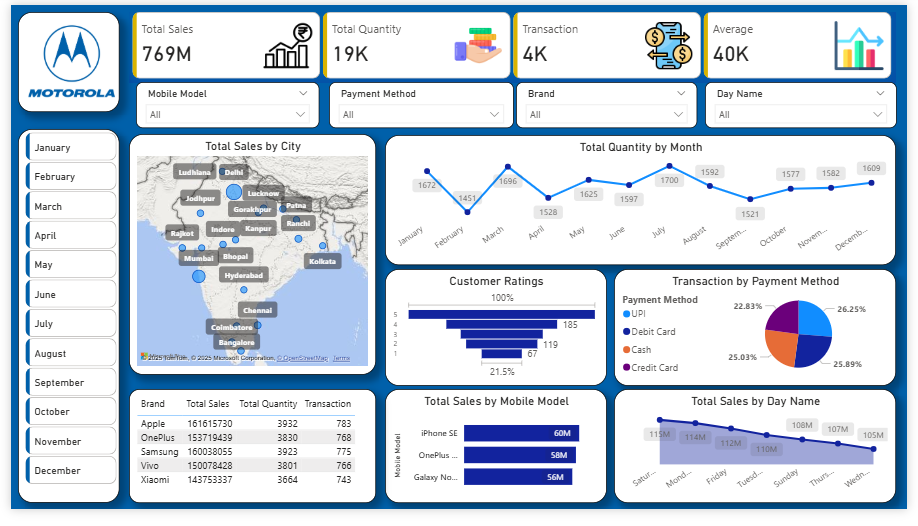

The page's visual inventory and layout, read from the dashboard file:
{"tool":"powerbi","page":{"name":"Page 1","canvas":[1280,720],"ordinal":0},"visuals":[{"type":"shape","box":[10,10,145,143.3],"z":0},{"type":"image","box":[16.7,23.3,138.3,115],"z":1000},{"type":"shape","box":[10.1,177.1,145.4,534.2],"z":2000},{"type":"advancedSlicerVisual","fields":{"Values":["SALE-DATA.Date.Variation.Date Hierarchy.Month"]},"box":[15,176.7,140,518.3],"z":3000},{"type":"cardVisual","fields":{"Data":["SALE-DATA.Total Sales","SALE-DATA.Total Quantity","SALE-DATA.Transaction","SALE-DATA.Average"]},"box":[168.5,10.1,1095.8,100.8],"z":4000},{"type":"map","fields":{"Category":["SALE-DATA.City"],"Size":["SALE-DATA.Total Sales"]},"box":[168.5,184.3,352.8,344.2],"z":5000},{"type":"lineChart","fields":{"Category":["SALE-DATA.Date.Variation.Date Hierarchy.Month","SALE-DATA.Date.Variation.Date Hierarchy.Day"],"Y":["SALE-DATA.Total Quantity"]},"box":[534.2,185.8,730.1,185.8],"z":6000},{"type":"clusteredBarChart","fields":{"Category":["SALE-DATA.Mobile Model"],"Y":["SALE-DATA.Total Sales"]},"box":[534.2,548.6,316.8,162.7],"z":7000},{"type":"pieChart","fields":{"Category":["SALE-DATA.Payment Method"],"Y":["SALE-DATA.Transaction"]},"box":[861.1,377.3,403.2,167],"z":8000},{"type":"funnel","title":"Customer Ratings","fields":{"Category":["SALE-DATA.Customer Ratings"],"Y":["CountNonNull(SALE-DATA.Customer Ratings)"]},"box":[534.2,377.3,316.8,167],"z":9000},{"type":"areaChart","fields":{"Category":["SALE-DATA.Day Name"],"Y":["SALE-DATA.Total Sales"]},"box":[861.1,548.6,403.2,162.7],"z":10000},{"type":"tableEx","fields":{"Values":["SALE-DATA.Brand","SALE-DATA.Total Sales","SALE-DATA.Total Quantity","SALE-DATA.Transaction"]},"box":[168.5,548.6,352.8,162.7],"z":11000},{"type":"slicer","fields":{"Values":["SALE-DATA.Mobile Model"]},"box":[178.6,109.4,262.1,66.2],"z":12000},{"type":"slicer","fields":{"Values":["SALE-DATA.Payment Method"]},"box":[453.6,109.4,263.5,66.2],"z":13000},{"type":"slicer","fields":{"Values":["SALE-DATA.Brand"]},"box":[721.4,109.4,259.2,66.2],"z":14000},{"type":"slicer","fields":{"Values":["SALE-DATA.Day Name"]},"box":[990.7,109.4,273.6,66.2],"z":15000}]}

Visuals, with their boxes in screenshot pixels (x1, y1, x2, y2), scaled from the page's 1280x720 canvas onto the 918x526 screenshot:
shape: l=7, t=7, r=111, b=112
image: l=12, t=17, r=111, b=101
shape: l=7, t=129, r=112, b=520
advancedSlicerVisual - SALE-DATA.Date.Variation.Date Hierarchy.Month: l=11, t=129, r=111, b=508
cardVisual - SALE-DATA.Total Sales x SALE-DATA.Total Quantity: l=121, t=7, r=907, b=81
map - SALE-DATA.City x SALE-DATA.Total Sales: l=121, t=135, r=374, b=386
lineChart - SALE-DATA.Date.Variation.Date Hierarchy.Month x SALE-DATA.Date.Variation.Date Hierarchy.Day: l=383, t=136, r=907, b=271
clusteredBarChart - SALE-DATA.Mobile Model x SALE-DATA.Total Sales: l=383, t=401, r=610, b=520
pieChart - SALE-DATA.Payment Method x SALE-DATA.Transaction: l=618, t=276, r=907, b=398
"Customer Ratings" funnel: l=383, t=276, r=610, b=398
areaChart - SALE-DATA.Day Name x SALE-DATA.Total Sales: l=618, t=401, r=907, b=520
tableEx - SALE-DATA.Brand x SALE-DATA.Total Sales: l=121, t=401, r=374, b=520
slicer - SALE-DATA.Mobile Model: l=128, t=80, r=316, b=128
slicer - SALE-DATA.Payment Method: l=325, t=80, r=514, b=128
slicer - SALE-DATA.Brand: l=517, t=80, r=703, b=128
slicer - SALE-DATA.Day Name: l=711, t=80, r=907, b=128
